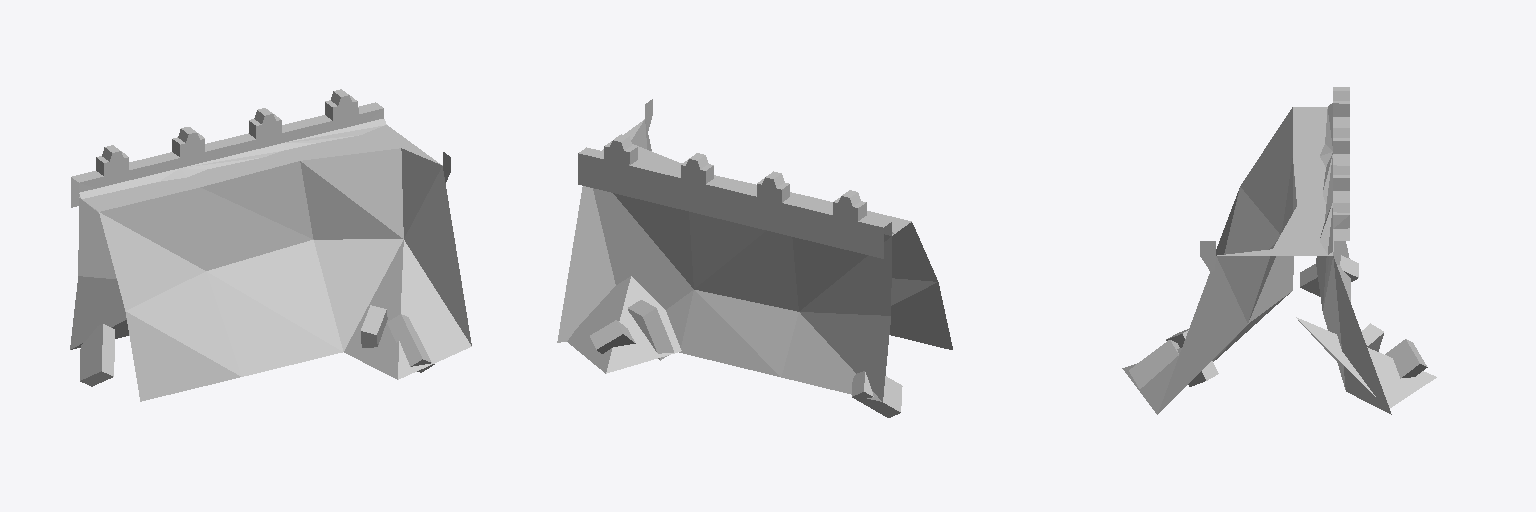
File: templeStraightNarrowLongDownAHorz_prefab.obj
3 views of the same model, side by side, from view 1: azimuth 30°, elevation 25°; view 2: azimuth 150°, elevation 25°; view 3: azimuth 270°, elevation 25° (orthographic).
Visible parts, largest first — view 1: Object55-Pivot; view 2: Object55-Pivot; view 3: Object55-Pivot.
Boxes of the visible parts, box(x1,y1,x2,y2) form: Object55-Pivot: box(70, 89, 471, 401); Object55-Pivot: box(557, 99, 952, 417); Object55-Pivot: box(1122, 87, 1436, 414).
Size of the model in its own units: 60.94 by 42.12 by 53.73.